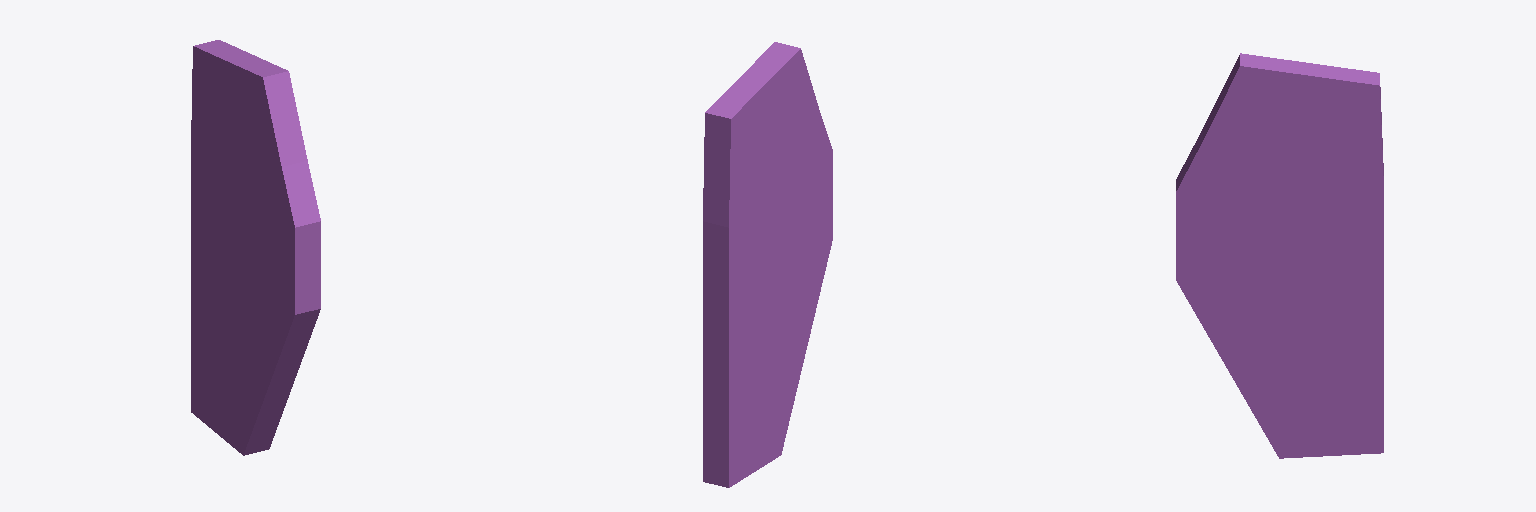
File: rudder.obj
The picture shows the model from 3 angles: view 1: azimuth 30°, elevation 25°; view 2: azimuth 150°, elevation 25°; view 3: azimuth 270°, elevation 25°; orthographic projection.
Size of the model in its own units: 0.1312 by 1.89 by 0.9064.